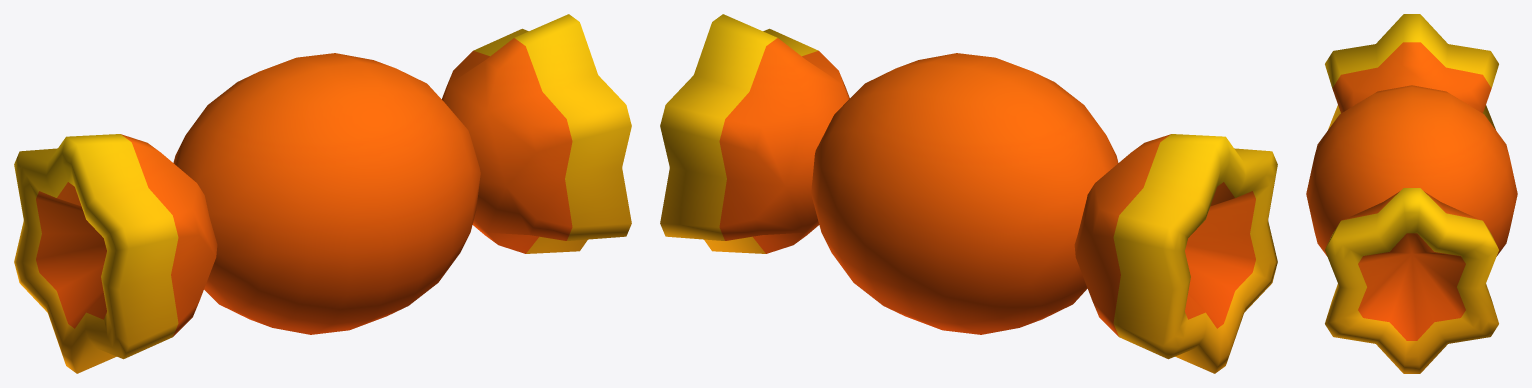
The model's file is candy_017.glb.
3 views of the same model, side by side, from view 1: azimuth 30°, elevation 25°; view 2: azimuth 150°, elevation 25°; view 3: azimuth 270°, elevation 25° (orthographic). The views are drawn at different scales.
Parts seen in each view (by area): view 1: candy_017; view 2: candy_017; view 3: candy_017.
Boxes of the visible parts, bbox=[...] form: candy_017: bbox=[14, 14, 631, 373]; candy_017: bbox=[660, 14, 1277, 373]; candy_017: bbox=[1306, 14, 1517, 373].
Bounding box in the file's own units: 4.55 × 2.15 × 2.15.
1 material, 1 textured.
